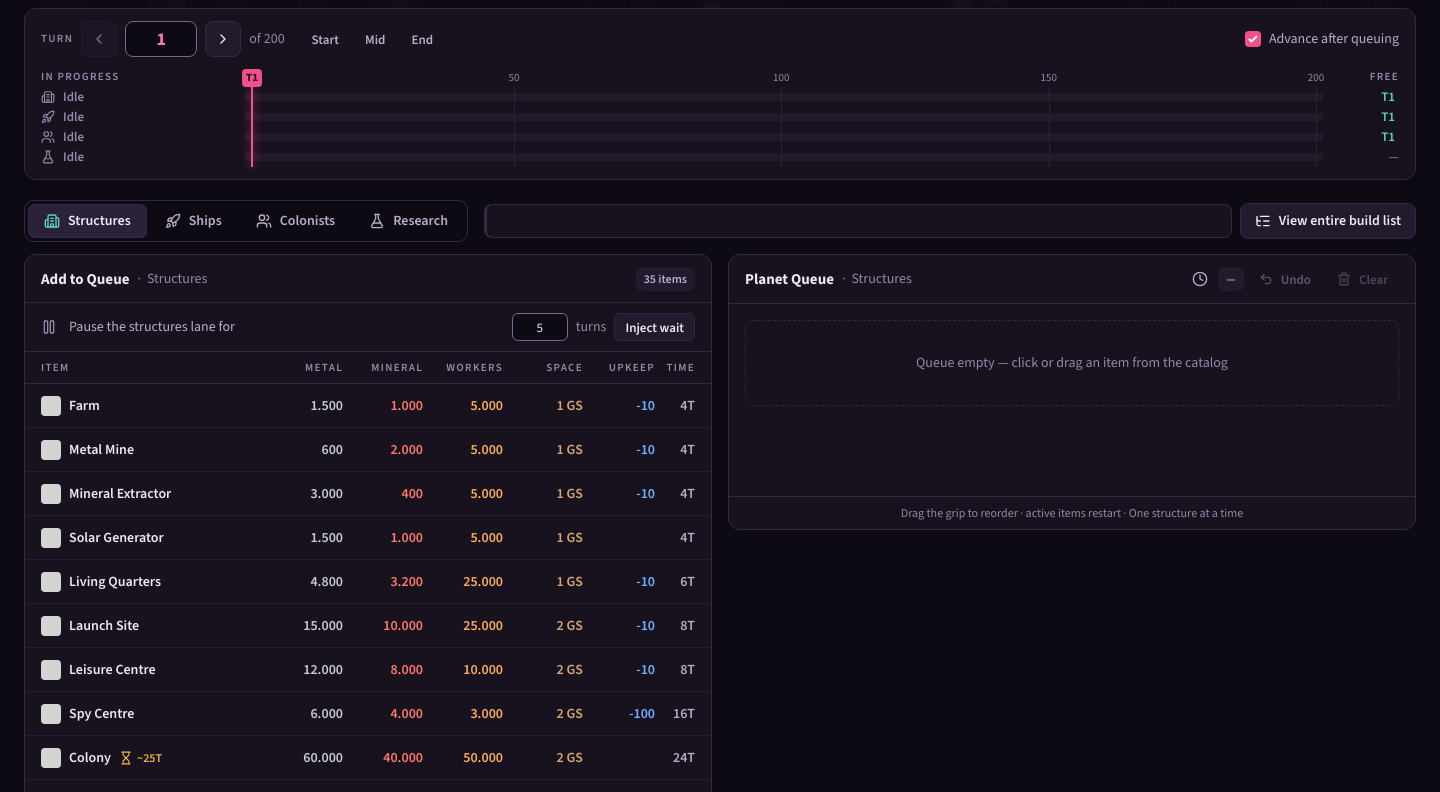
it: planet queue undo › reverts queue changes one step at a time, newest first
(page scrolled)
Click the button "Farm". click: (84, 406)
box: top-left (69, 396), bottom-right (100, 416)
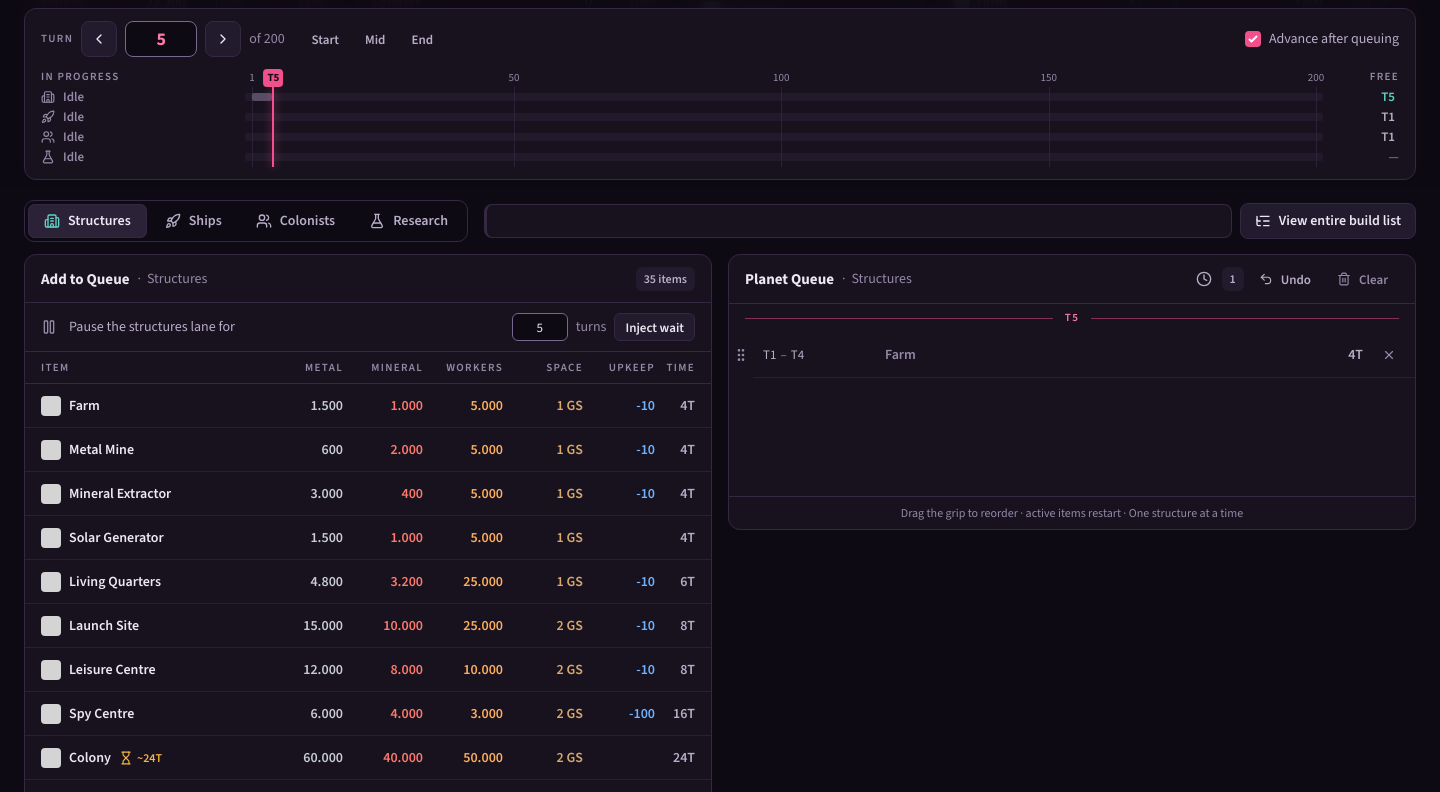
Click the button "Metal Mine". click: (102, 450)
box: top-left (69, 440), bottom-right (134, 460)
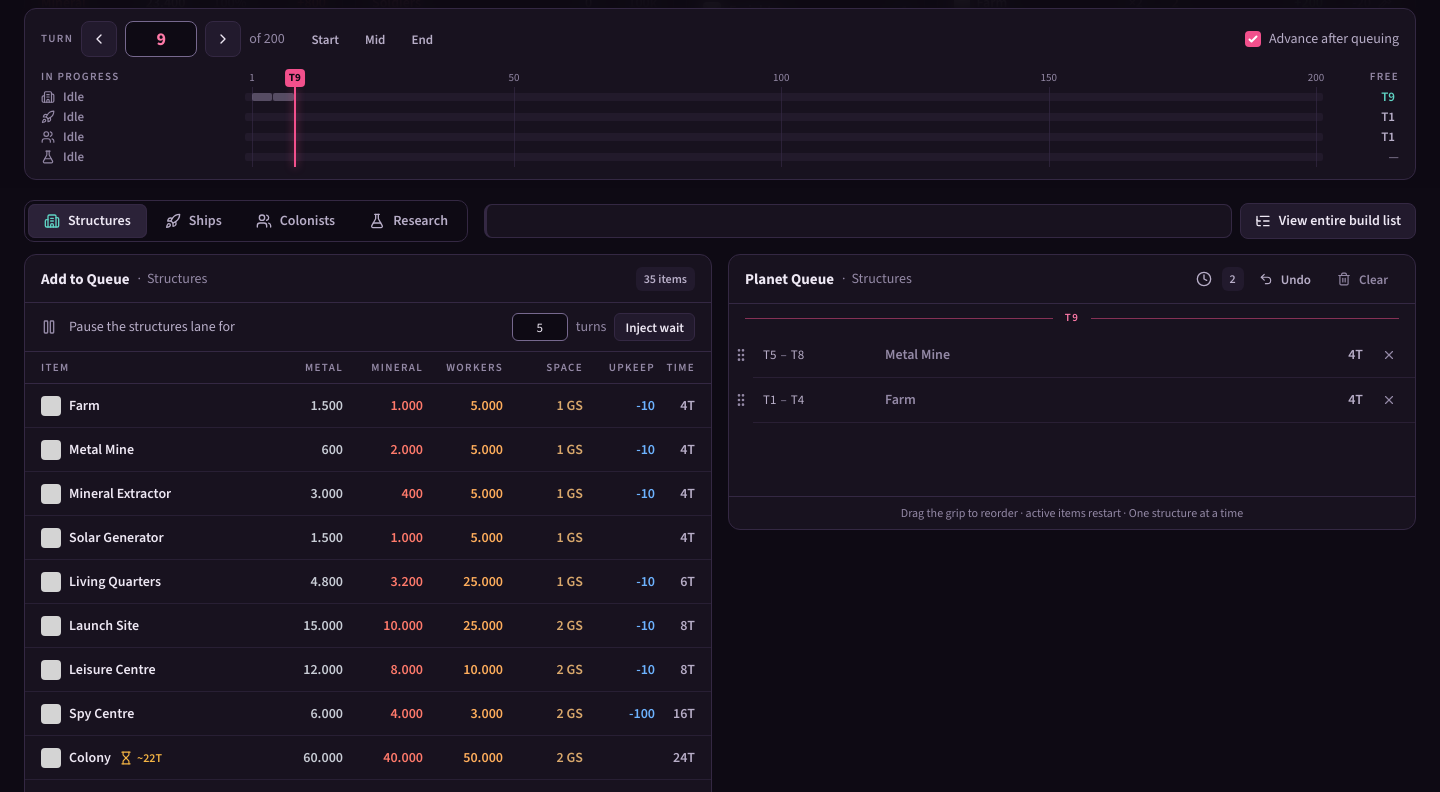
Click the button with aria-label "Undo: Adding Metal Mine". click: (1285, 279)
box: top-left (1248, 265), bottom-right (1322, 293)
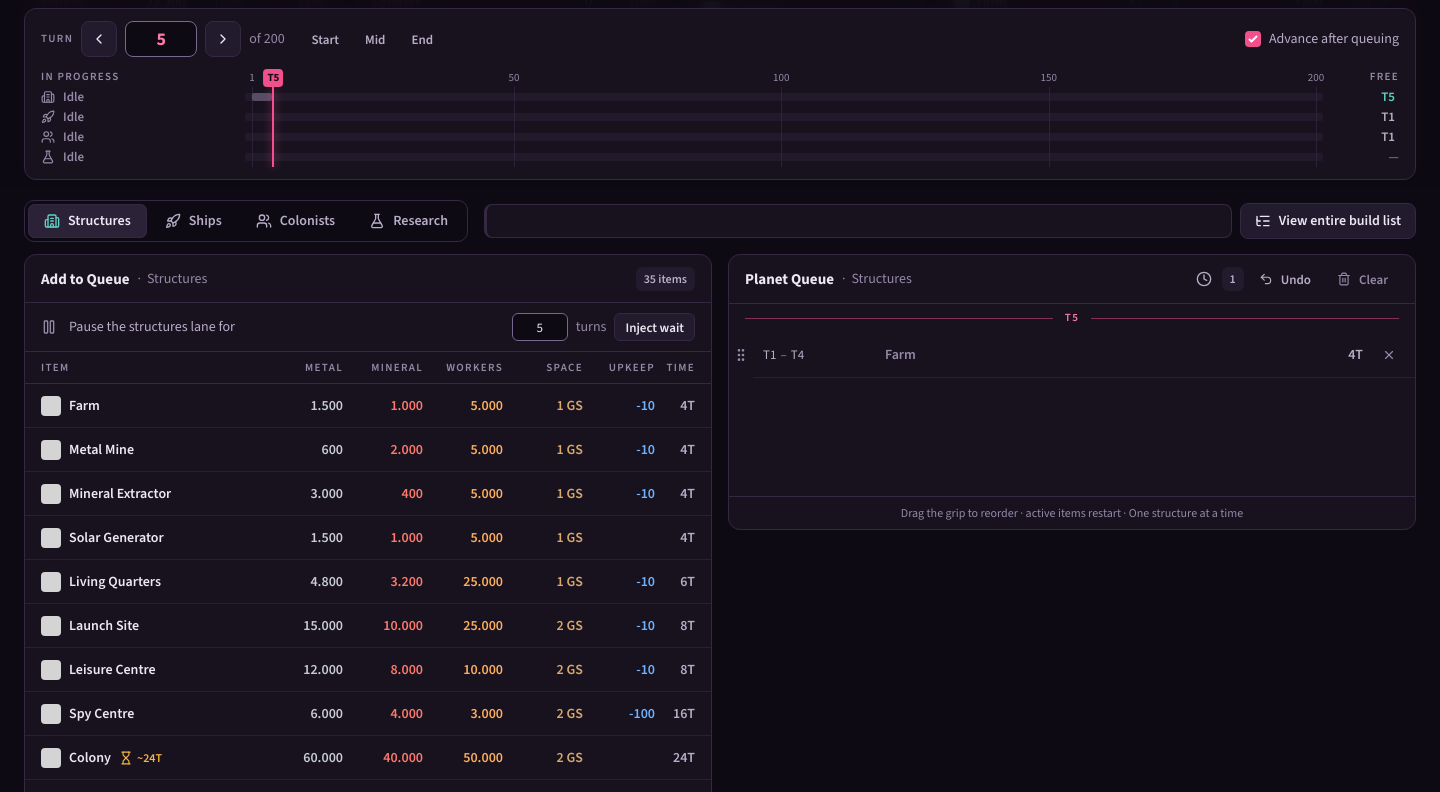
Click the button with aria-label "Undo: Adding Farm". click: (1285, 279)
box: top-left (1248, 265), bottom-right (1322, 293)
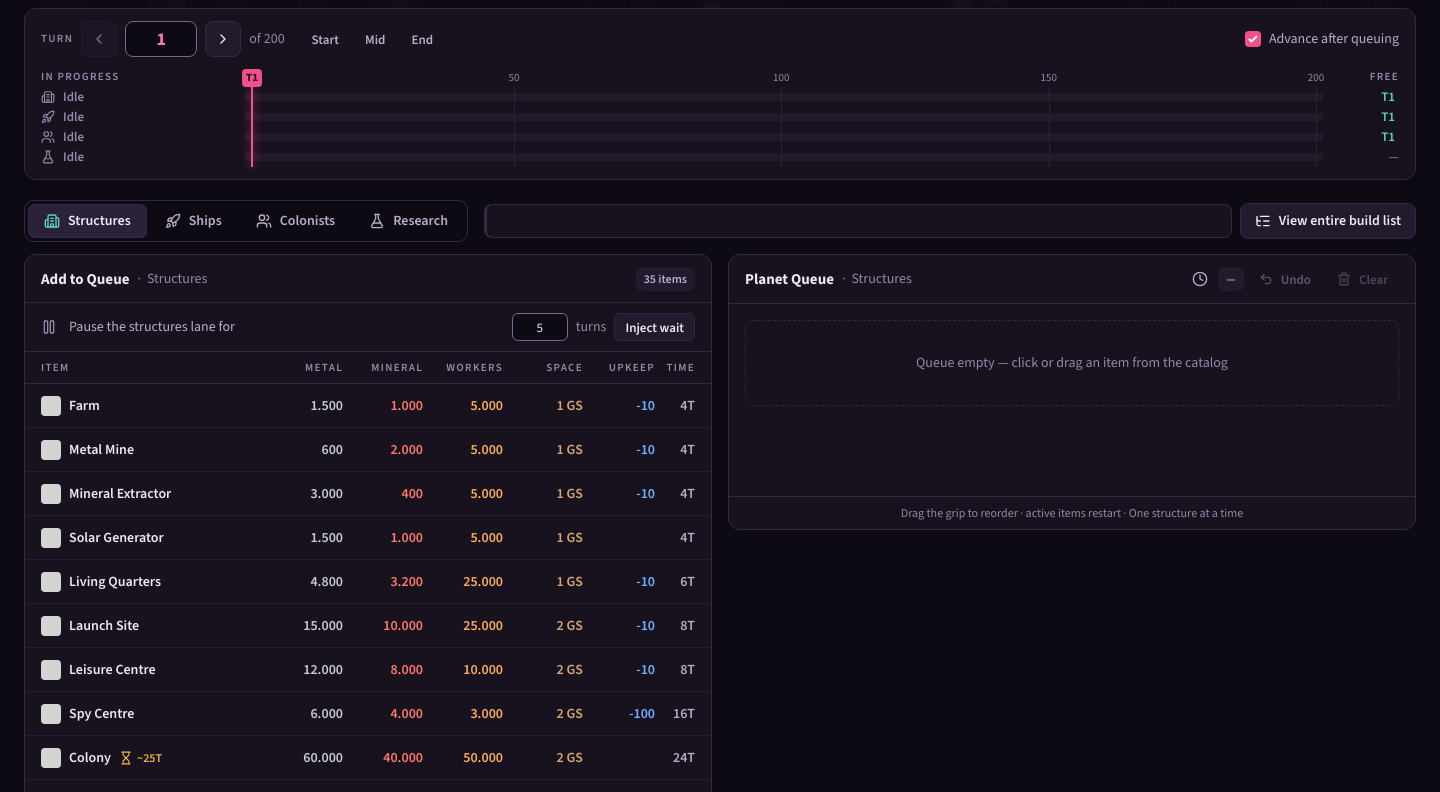
Expected: the button "Undo" is disabled, top-left (1248, 265), bottom-right (1322, 293)
